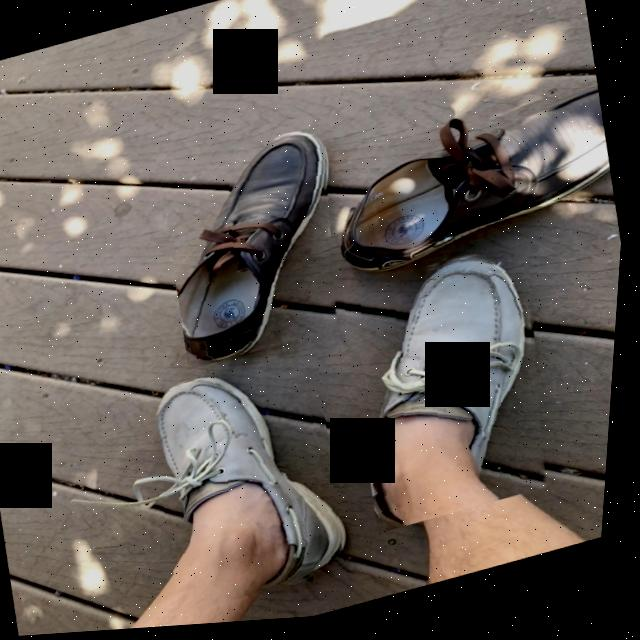shoe: (376, 261, 540, 532), (155, 384, 351, 589), (181, 137, 329, 364)
